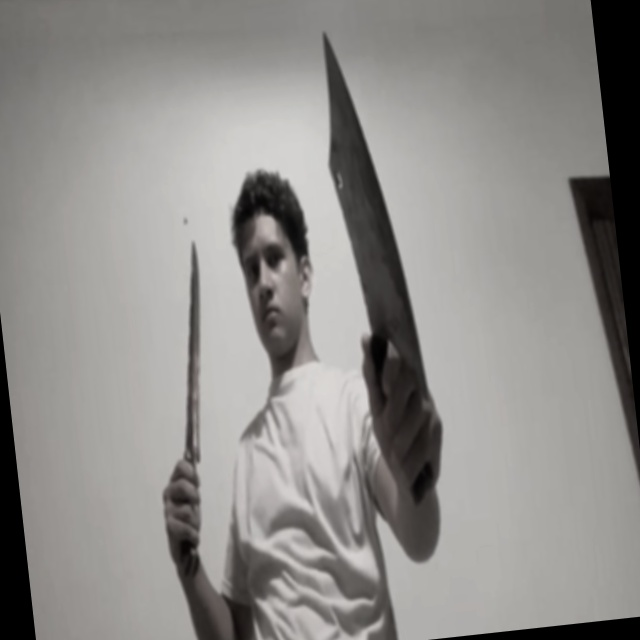Sharp-Object: (315, 24, 429, 400), (165, 244, 219, 458)
